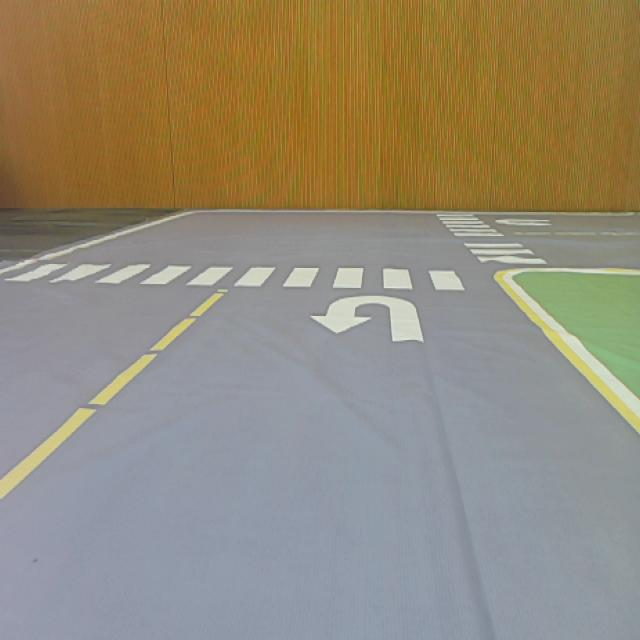left_lane: (0, 288, 228, 503)
right_lane: (495, 280, 640, 438)
